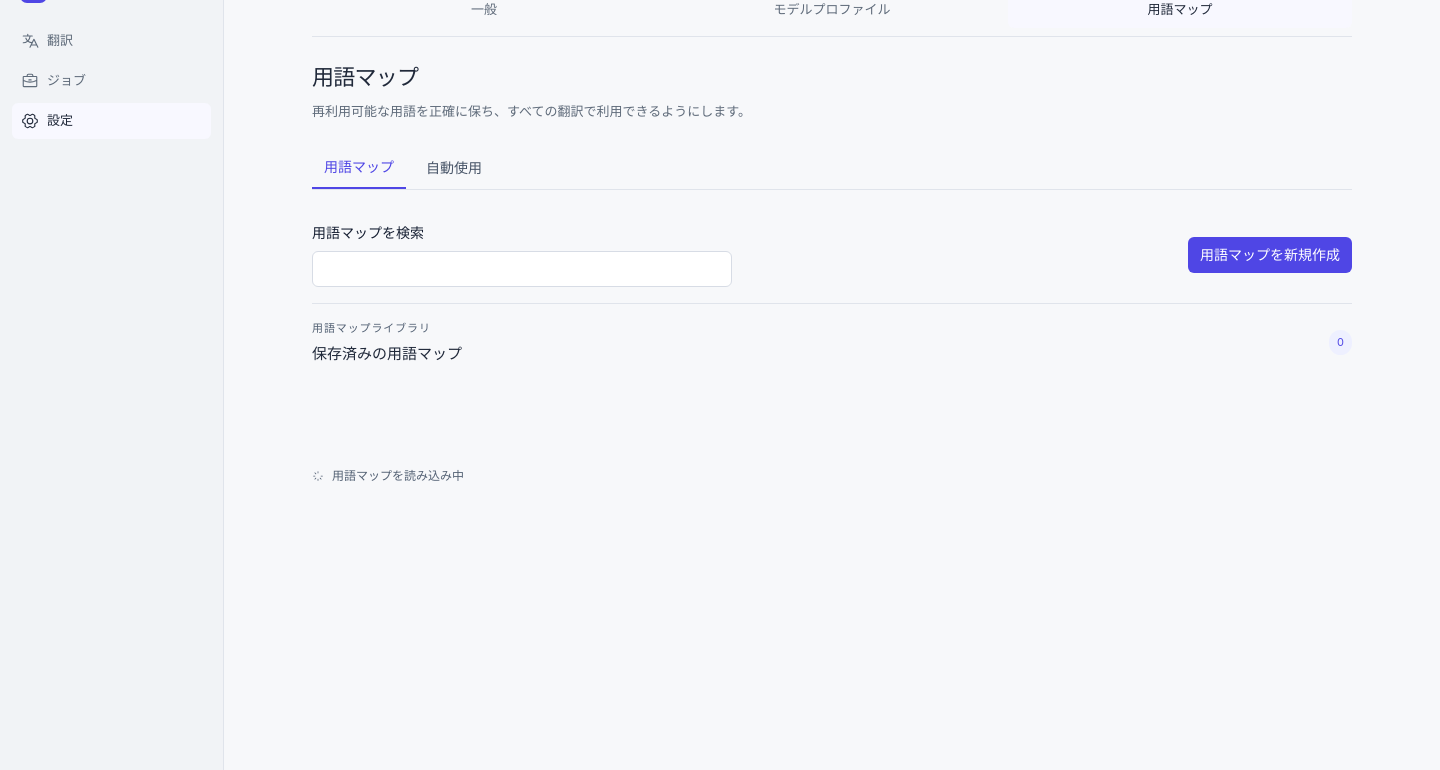
it: product shell › localizes Term map guidance for ja
Click the button "用語マップを新規作成": [1270, 255] box [1188,237,1352,273]
(page scrolled)
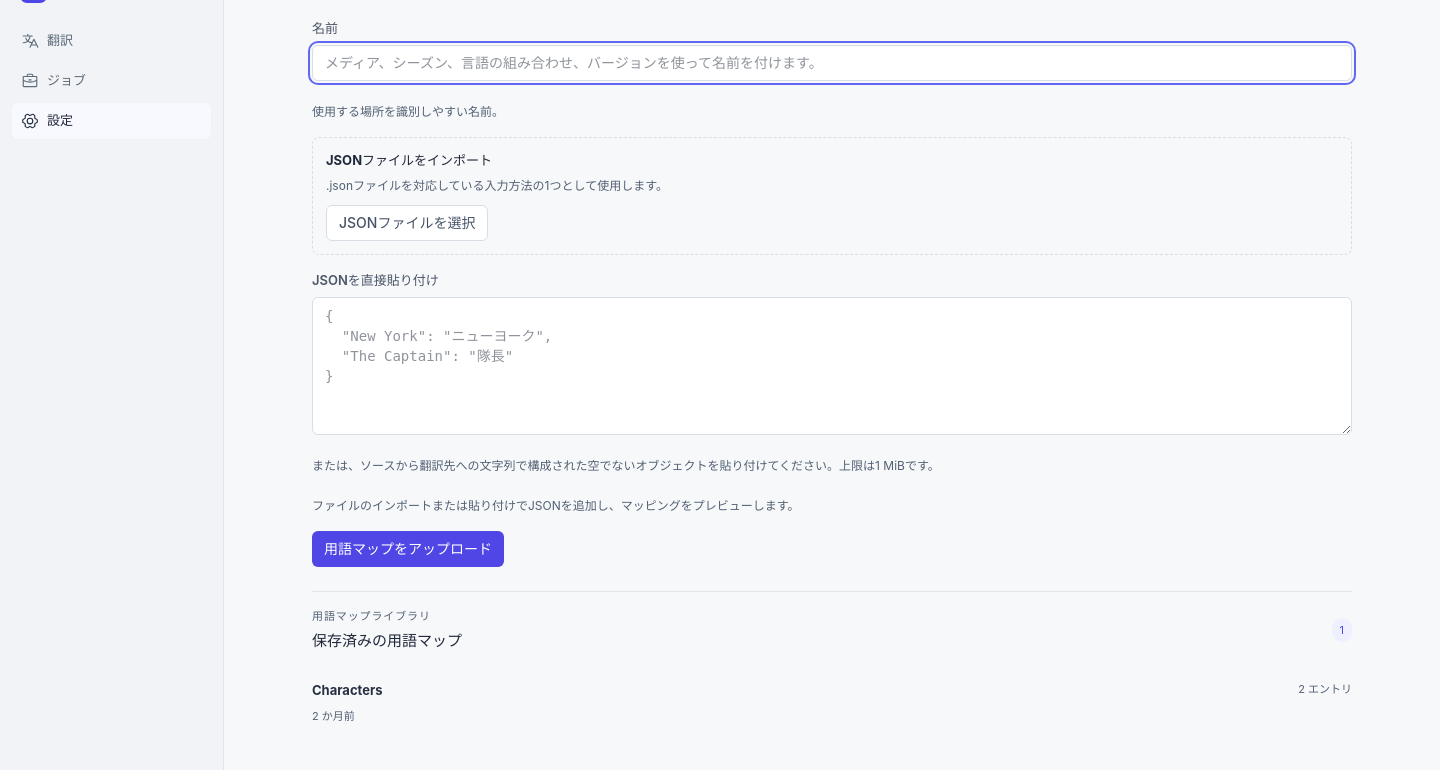
Expected: the text "使用する場所を識別しやすい名前。" is shown, [312,104,504,119]
